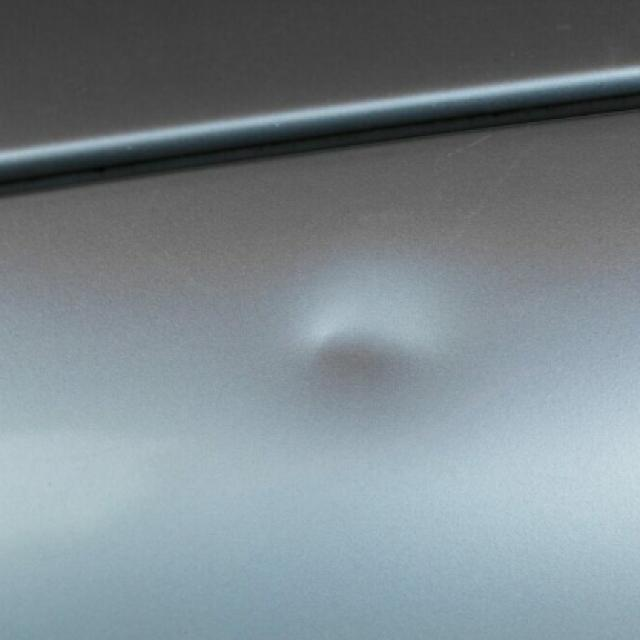dents: (277, 275, 470, 427)
